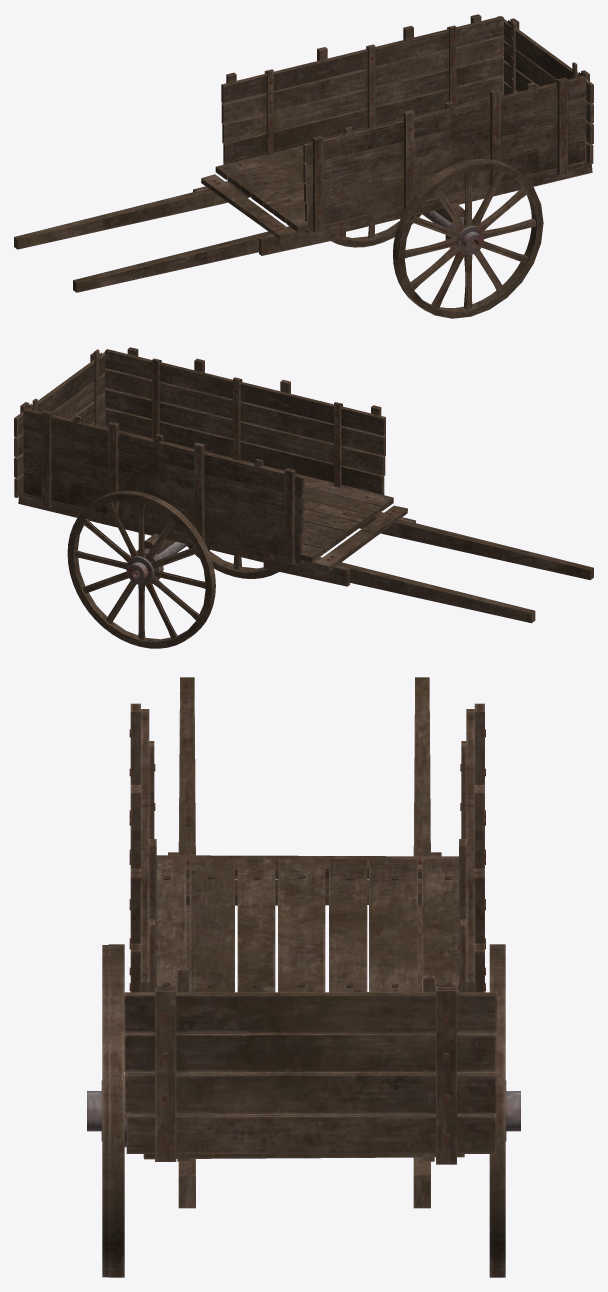
Rendered from Cart3.glb.
The picture shows the model from 3 angles, top to bottom: view 1: azimuth 30°, elevation 25°; view 2: azimuth 150°, elevation 25°; view 3: azimuth 270°, elevation 25°; orthographic projection. The views are drawn at different scales.
Parts seen in each view (by area): view 1: CartCMain; view 2: CartCMain; view 3: CartCMain.
Boxes of the visible parts, x1,y1,x2,y2 form: CartCMain: [14, 14, 593, 318]; CartCMain: [14, 347, 593, 648]; CartCMain: [87, 677, 520, 1277].
Size of the model in its own units: 4.1 by 1.61 by 1.5.
Materials: 1 (1 with a texture image).
